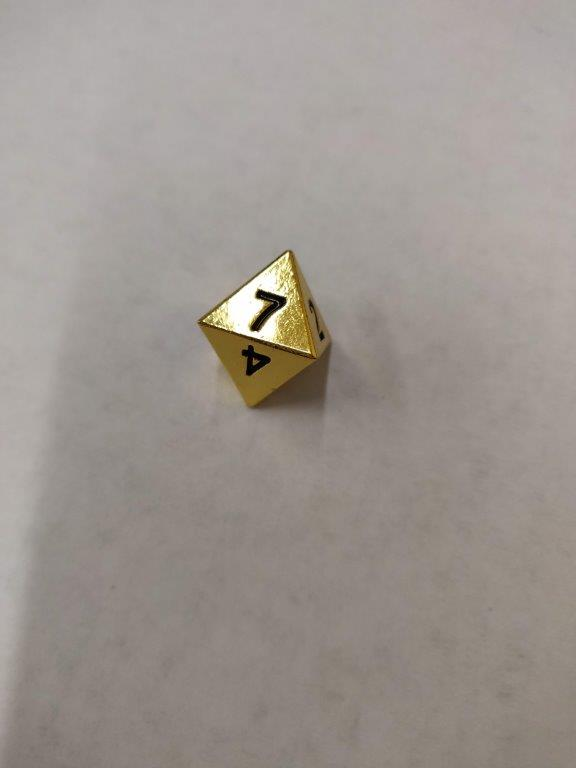d8-7: (197, 250, 330, 409)
